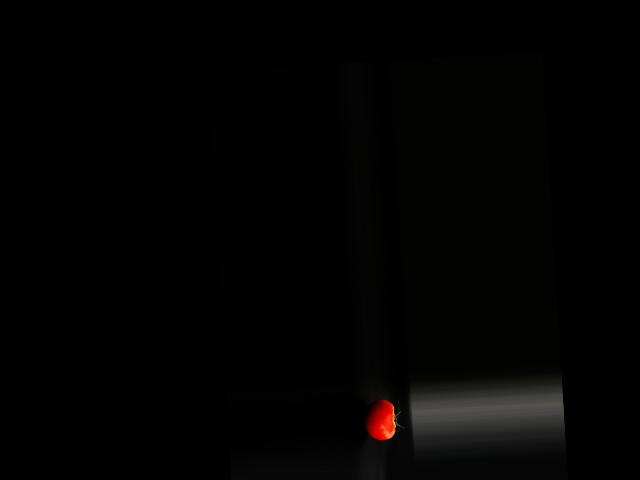tomato: (363, 399, 396, 441)
